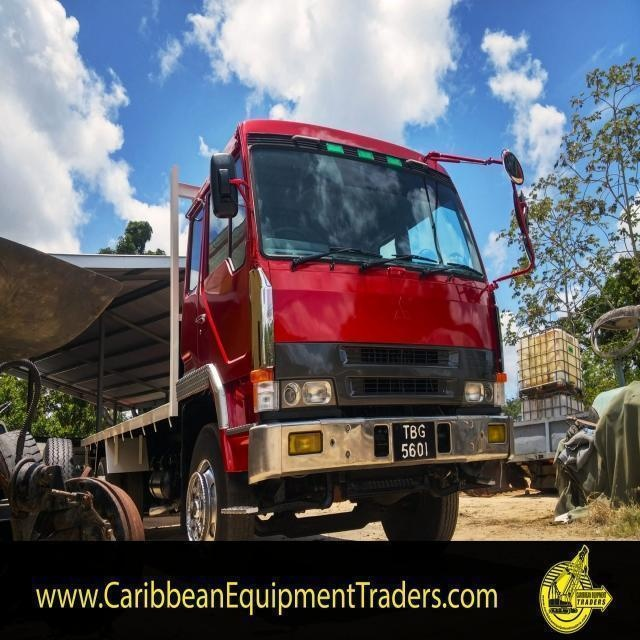Truck: (66, 116, 536, 544)
